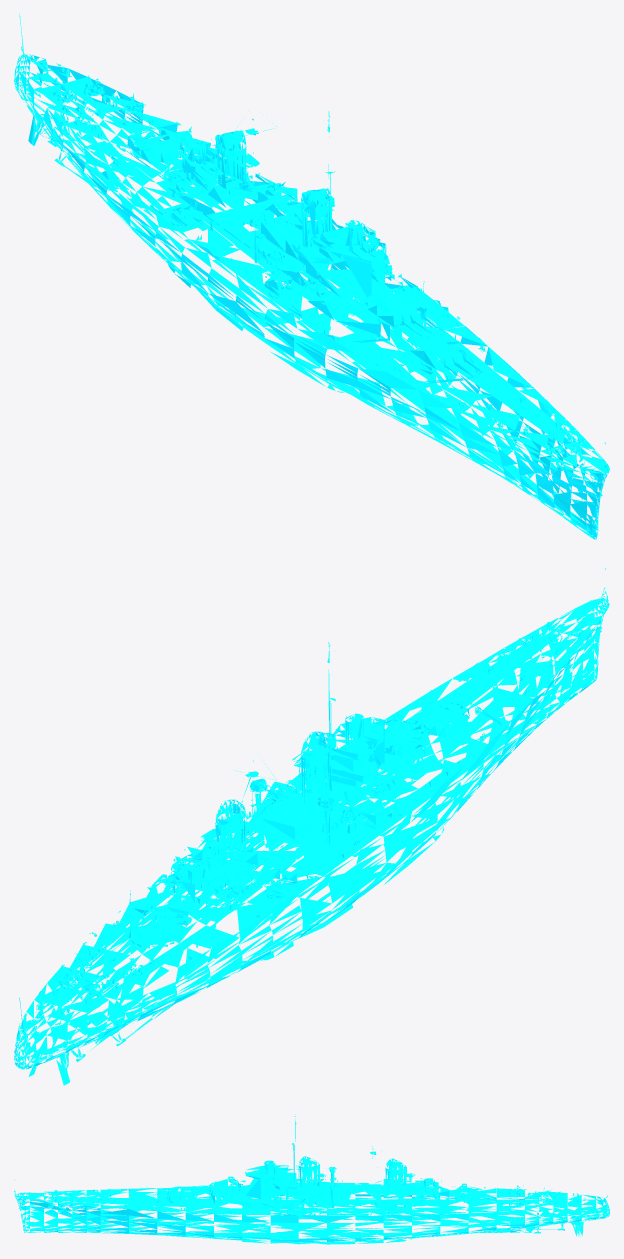
Rendered from PHSC509.glb.
The picture shows the model from 3 angles, top to bottom: view 1: azimuth 30°, elevation 25°; view 2: azimuth 150°, elevation 25°; view 3: azimuth 270°, elevation 25°; orthographic projection. The views are drawn at different scales.
Visible parts, largest first — view 1: hull_mid, hull_bow, hull_stern, main_battery, secondary_battery, aa_mount; view 2: hull_mid, hull_bow, hull_stern, main_battery, aa_mount, secondary_battery; view 3: hull_mid, hull_bow, hull_stern, main_battery, aa_mount, secondary_battery.
Part boxes in pixels (bbox=[...]): hull_mid: bbox=[83, 117, 464, 406]; hull_bow: bbox=[355, 326, 609, 539]; hull_stern: bbox=[14, 14, 177, 197]; main_battery: bbox=[122, 118, 485, 377]; secondary_battery: bbox=[170, 179, 392, 297]; aa_mount: bbox=[57, 75, 390, 297]; hull_mid: bbox=[82, 669, 464, 1020]; hull_bow: bbox=[370, 568, 609, 818]; hull_stern: bbox=[14, 945, 176, 1085]; main_battery: bbox=[112, 691, 483, 953]; aa_mount: bbox=[58, 769, 391, 996]; secondary_battery: bbox=[171, 778, 392, 898]; hull_mid: bbox=[200, 1125, 511, 1244]; hull_bow: bbox=[14, 1180, 213, 1238]; hull_stern: bbox=[496, 1188, 609, 1236]; main_battery: bbox=[147, 1176, 504, 1203]; aa_mount: bbox=[272, 1178, 551, 1215]; secondary_battery: bbox=[282, 1179, 406, 1213].
Size of the model in its own units: 1.73 by 3.07 by 14.04.
